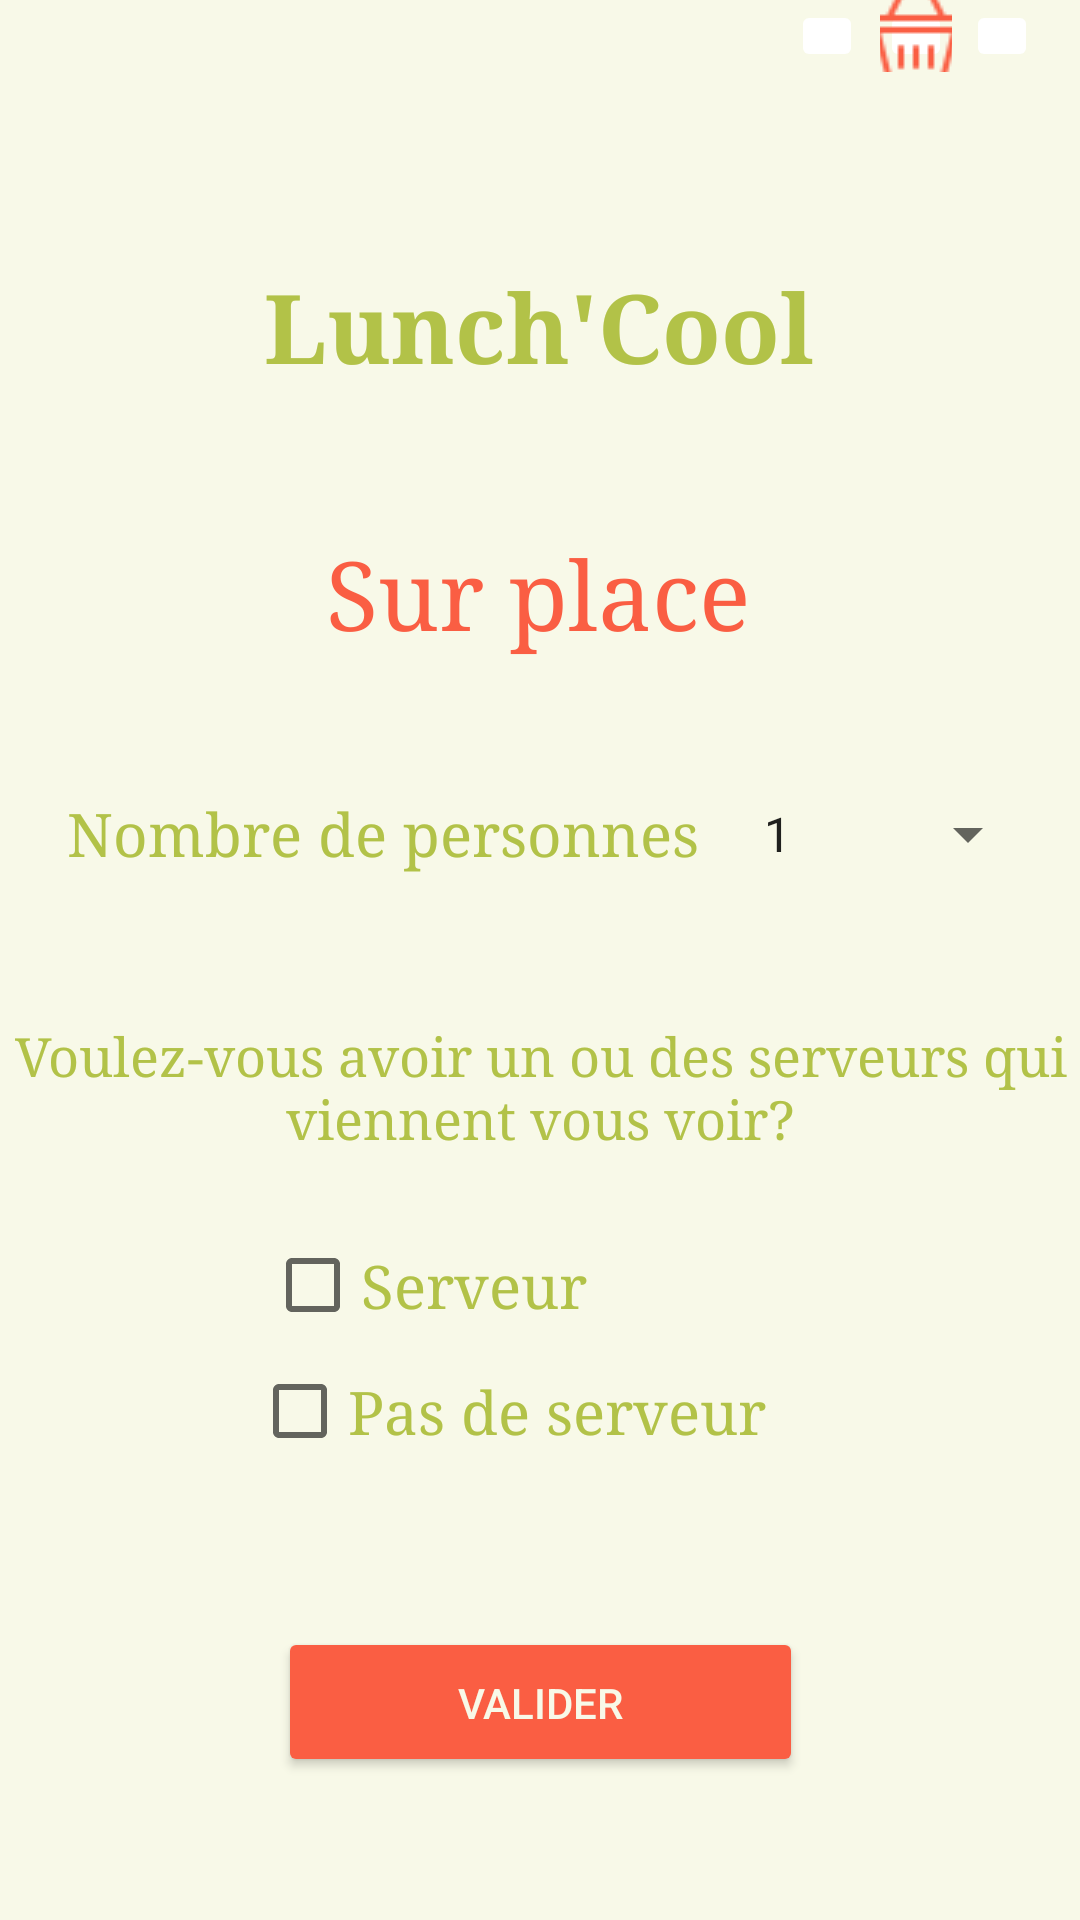

Icons on this 1080*1920 Android screen, each with its box as (x1, y1, x2, y2):
panier: (880, 0, 952, 72)
